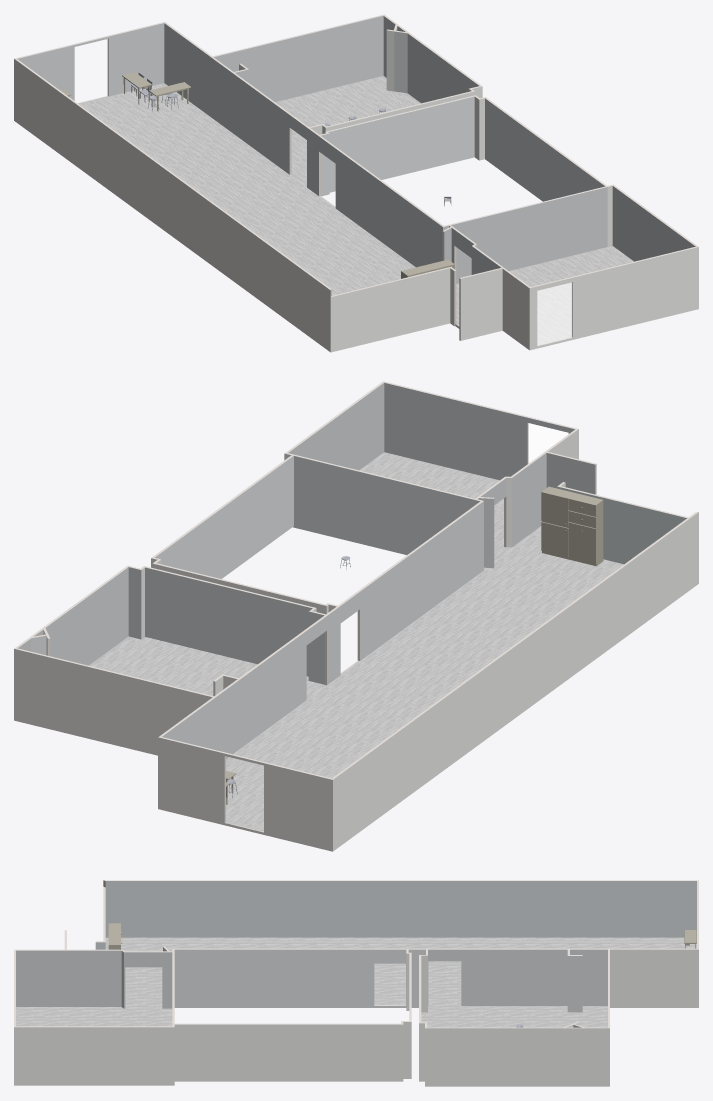
The picture shows the model from 3 angles, top to bottom: view 1: azimuth 30°, elevation 25°; view 2: azimuth 150°, elevation 25°; view 3: azimuth 270°, elevation 25°; orthographic projection. The views are drawn at different scales.
Parts seen in each view (by area): view 1: floor_Dining_Room, wall_4, wall_1, wall_61, wall_111, wall_45, wall_21, wall_107, wall_119, wall_41, floor_Other_2, floor_Other_3 (+14 smaller); view 2: floor_Dining_Room, wall_4, wall_10, wall_35, wall_47, wall_0, wall_43, wall_107, wall_119, floor_Other_2, wall_103, wall_101 (+16 smaller); view 3: wall_49, wall_39, wall_33, floor_Dining_Room, wall_20, wall_30, wall_31, wall_19, floor_Other_2, wall_91, floor_Other_3, wall_51 (+13 smaller).
Part boxes in pixels (left/top/right/bottom): floor_Dining_Room: left=78, top=83, right=459, bottom=326; wall_4: left=14, top=59, right=330, bottom=352; wall_1: left=529, top=247, right=698, bottom=350; wall_61: left=214, top=16, right=383, bottom=101; wall_111: left=451, top=187, right=607, bottom=283; wall_45: left=328, top=96, right=474, bottom=192; wall_21: left=330, top=268, right=450, bottom=352; wall_107: left=318, top=136, right=442, bottom=267; wall_119: left=485, top=98, right=604, bottom=201; wall_41: left=17, top=23, right=164, bottom=100; floor_Other_2: left=275, top=76, right=420, bottom=186; floor_Other_3: left=456, top=246, right=633, bottom=345; floor_Dining_Room: left=225, top=526, right=623, bottom=831; wall_4: left=333, top=512, right=698, bottom=851; wall_10: left=14, top=649, right=212, bottom=755; wall_35: left=294, top=456, right=474, bottom=554; wall_47: left=145, top=567, right=312, bottom=676; wall_0: left=158, top=737, right=332, bottom=851; wall_43: left=384, top=383, right=574, bottom=480; wall_107: left=339, top=501, right=483, bottom=675; wall_119: left=155, top=456, right=293, bottom=578; floor_Other_2: left=89, top=636, right=325, bottom=698; wall_103: left=240, top=616, right=327, bottom=747; wall_101: left=45, top=567, right=128, bottom=665; wall_49: left=105, top=881, right=696, bottom=937; wall_39: left=174, top=1024, right=403, bottom=1081; wall_33: left=174, top=949, right=406, bottom=1007; floor_Dining_Room: left=105, top=937, right=696, bottom=1008; wall_20: left=14, top=1027, right=174, bottom=1085; wall_30: left=425, top=1028, right=562, bottom=1086; wall_31: left=428, top=949, right=567, bottom=1005; wall_19: left=610, top=949, right=698, bottom=1007; floor_Other_2: left=421, top=1005, right=607, bottom=1027; wall_91: left=65, top=950, right=121, bottom=1006; floor_Other_3: left=16, top=1007, right=172, bottom=1026; wall_51: left=16, top=950, right=65, bottom=1006.
Size of the model in its own units: 16.23 by 2.98 by 31.7.
103 materials, 4 textured.
